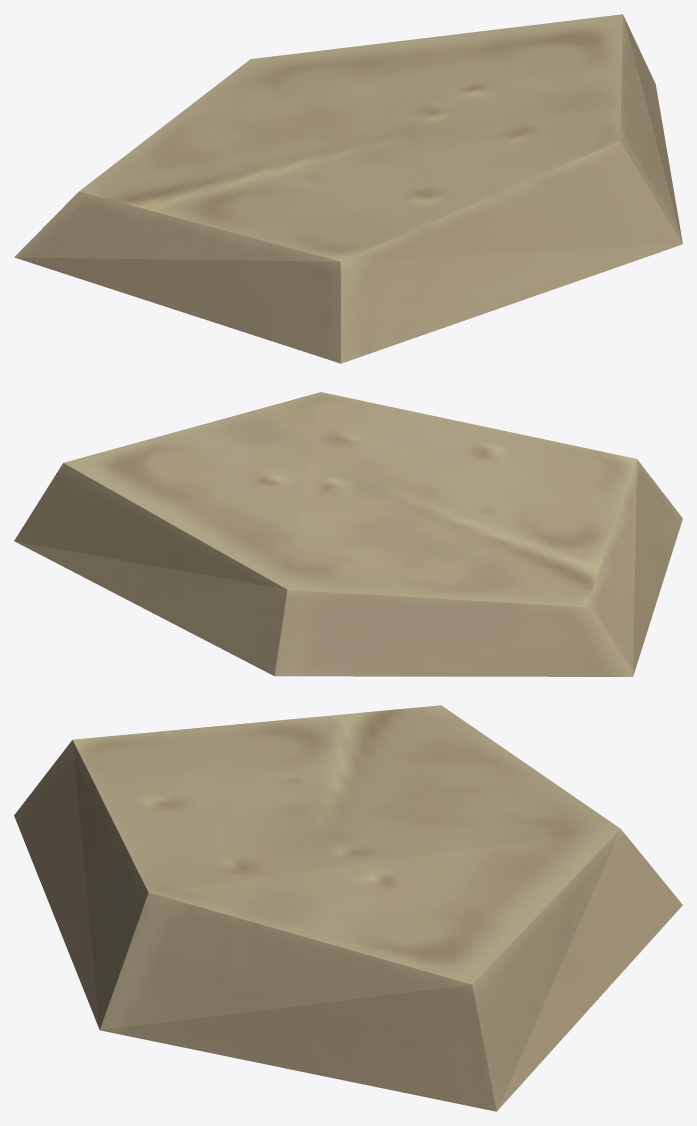
The model's file is Stone02.FBX.
3 renders of one model, top to bottom at view 1: azimuth 30°, elevation 25°; view 2: azimuth 150°, elevation 25°; view 3: azimuth 270°, elevation 25°, orthographic. The views are drawn at different scales.
Parts seen in each view (by area): view 1: Stone02; view 2: Stone02; view 3: Stone02.
Boxes of the visible parts, <box> form: Stone02: <box>14,14,682,363</box>; Stone02: <box>14,392,682,676</box>; Stone02: <box>14,705,682,1111</box>.
Size of the model in its own units: 117 by 16.73 by 88.84.
